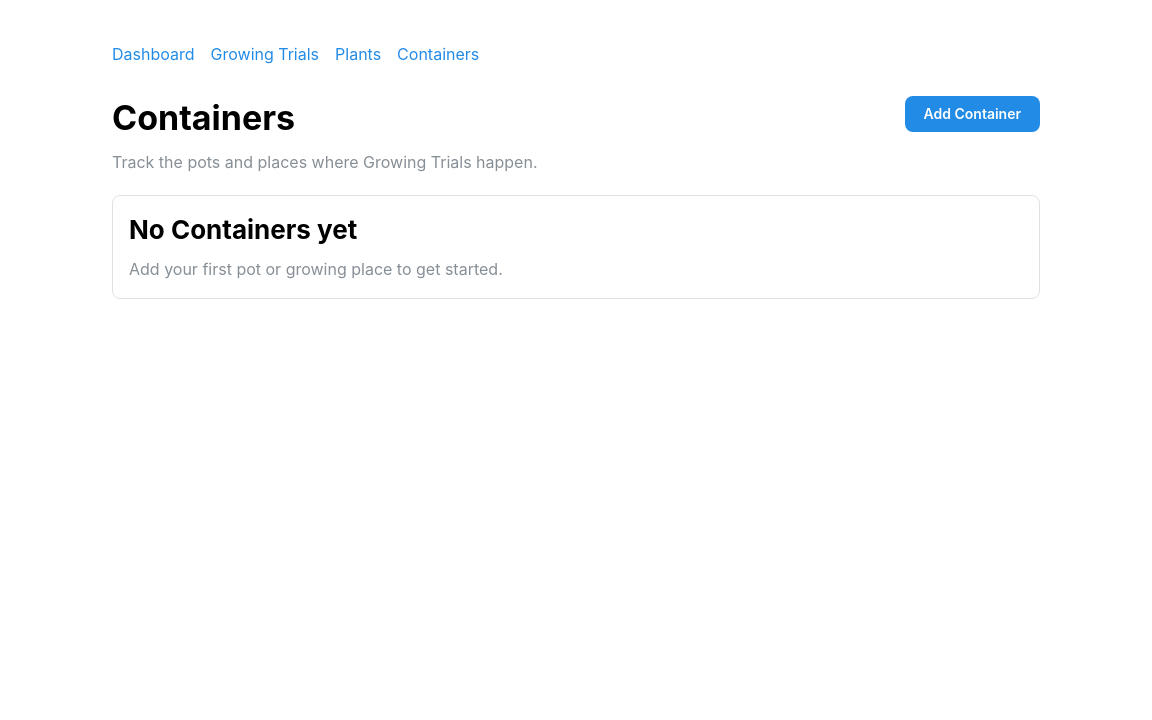
Test: ContainersPage › opens the create modal from the Add Container action
This screenshot has width=1152, height=720.
Expected: the heading "No Containers yet" is shown, [129,214,357,245]
Click the button "Add Container" at coordinates (972, 114), box [904,96,1040,132]
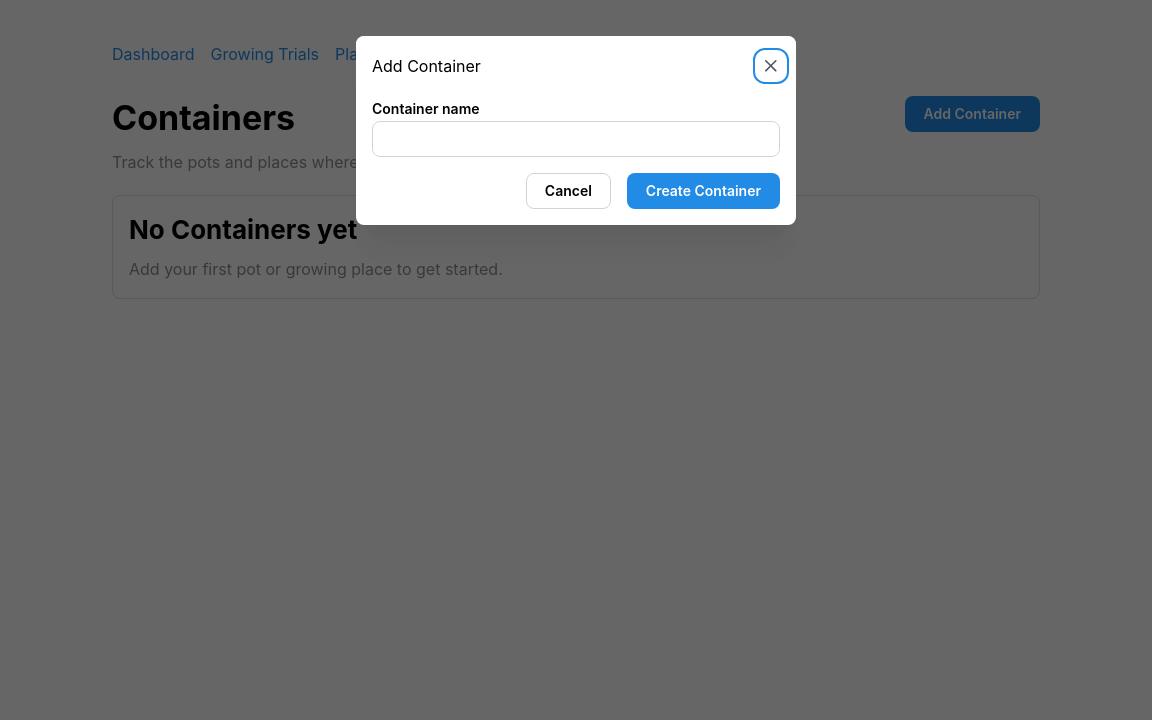
Expected: the heading "Add Container" is shown, [372,58,481,74]
Expected: the field labelled "Container name" is shown, [372,121,780,157]
